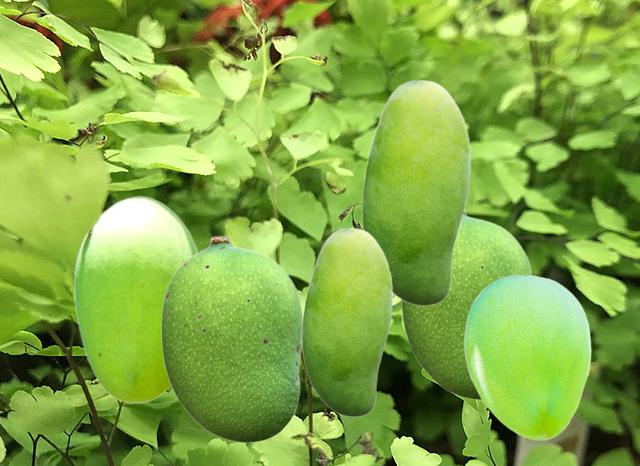green_mango: (160, 235, 302, 442), (73, 195, 199, 402), (400, 210, 532, 399), (361, 79, 470, 305), (463, 274, 590, 439), (301, 227, 392, 416)
